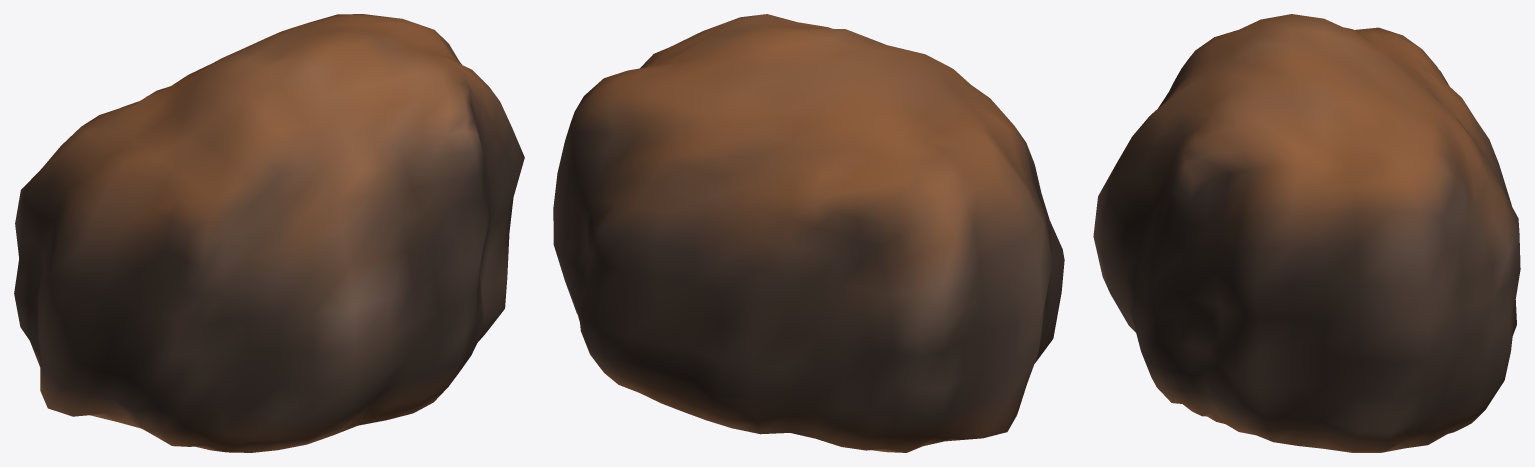
Rendered from moe.glb.
3 renders of one model, left to right at view 1: azimuth 30°, elevation 25°; view 2: azimuth 150°, elevation 25°; view 3: azimuth 270°, elevation 25°, orthographic. The views are drawn at different scales.
Parts seen in each view (by area): view 1: rock-moe; view 2: rock-moe; view 3: rock-moe.
Part boxes in pixels (x1,y1,x2,y2): rock-moe: (14, 14, 524, 452); rock-moe: (553, 14, 1064, 452); rock-moe: (1093, 14, 1520, 452).
Size of the model in its own units: 0.62 by 0.42 by 0.5.
